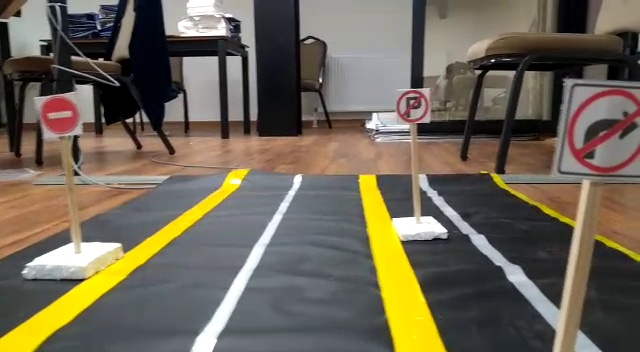girisi_olmayan_yol: (38, 92, 81, 134)
park_yapilmaz: (395, 87, 431, 122)
saga_donulmez: (568, 79, 640, 177)
